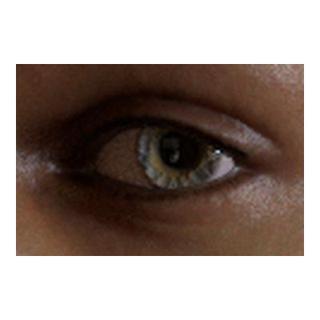pupil: (160, 131, 198, 168)
